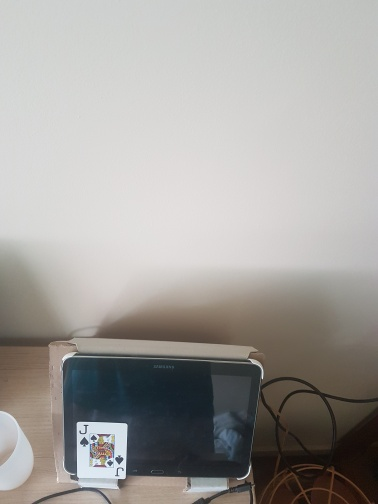jack: (76, 421, 127, 478)
